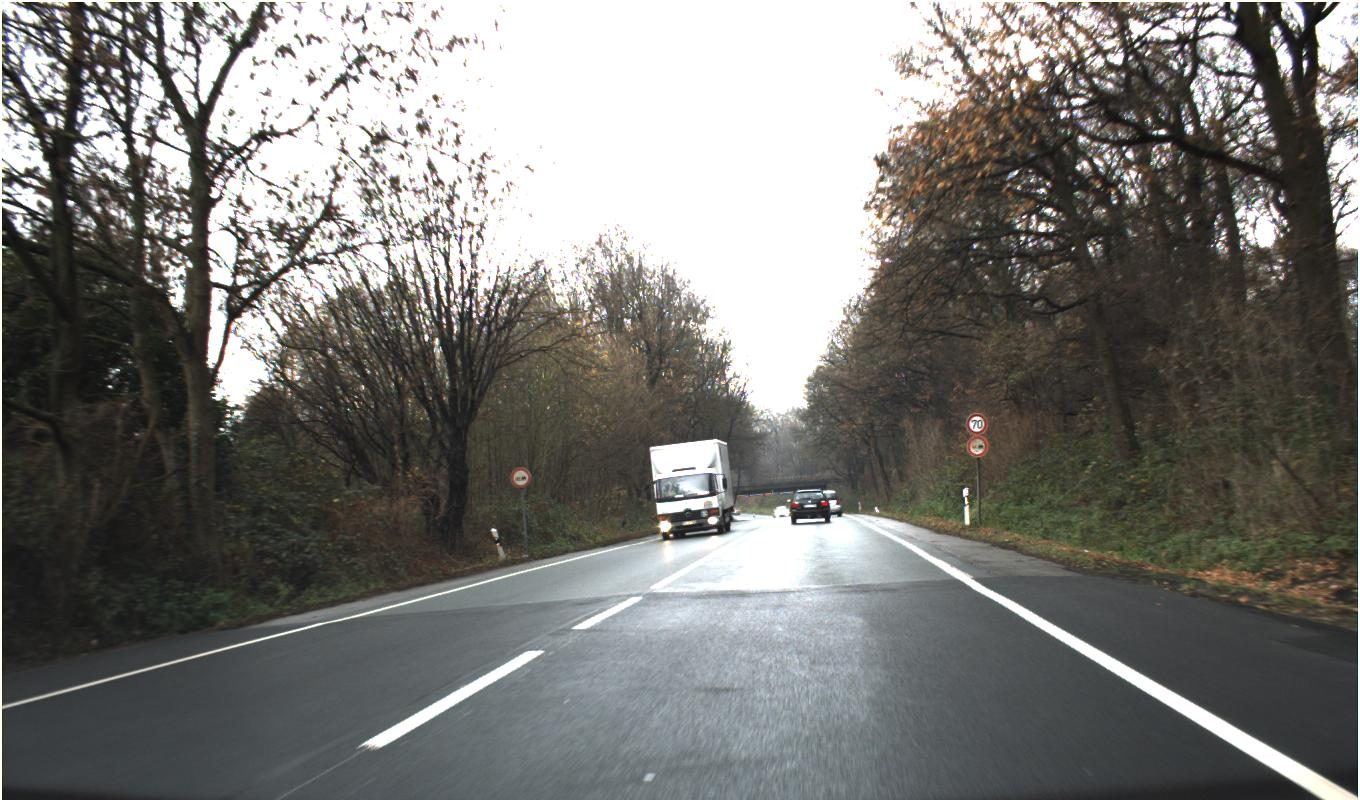prohibitory: (964, 412, 988, 435), (965, 435, 988, 458), (509, 466, 531, 488)
